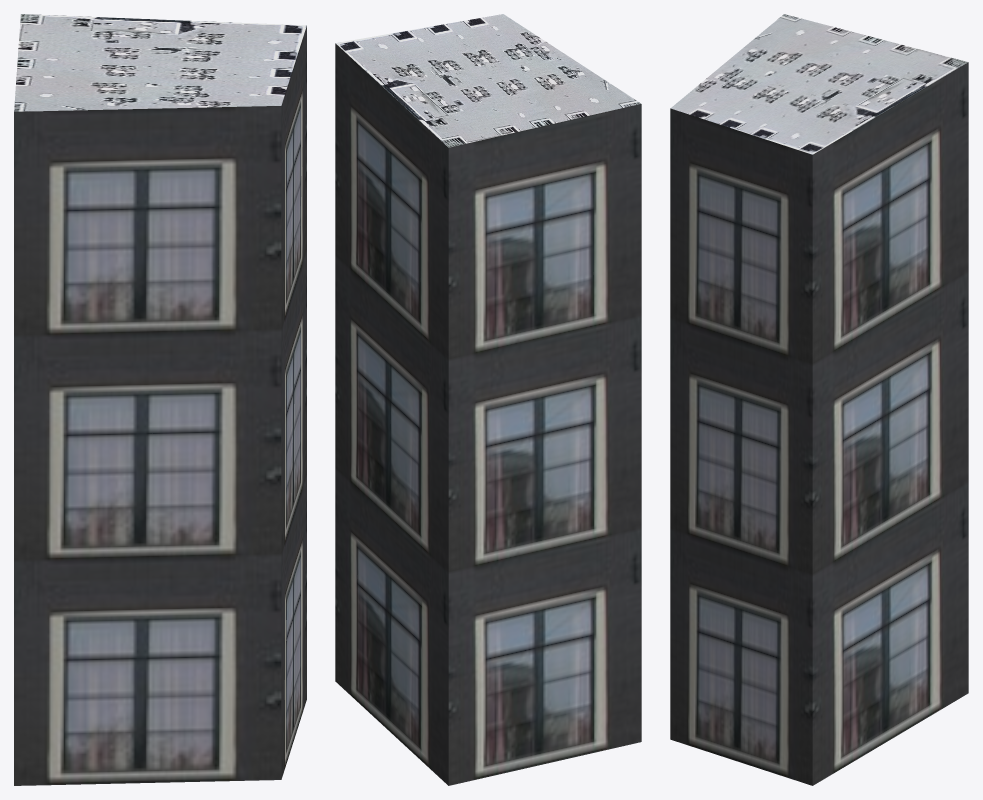
Rendered from ResTex__1068.fbx.
3 renders of one model, left to right at view 1: azimuth 30°, elevation 25°; view 2: azimuth 150°, elevation 25°; view 3: azimuth 270°, elevation 25°, orthographic. The views are drawn at different scales.
Visible parts, largest first — view 1: CityEngineMaterial_22_m, CityEngineMaterial_4_m; view 2: CityEngineMaterial_22_m, CityEngineMaterial_4_m; view 3: CityEngineMaterial_22_m, CityEngineMaterial_4_m.
Part boxes in pixels (bbox=[...]): CityEngineMaterial_22_m: bbox=[14, 26, 306, 785]; CityEngineMaterial_4_m: bbox=[14, 14, 306, 111]; CityEngineMaterial_22_m: bbox=[335, 43, 641, 785]; CityEngineMaterial_4_m: bbox=[335, 14, 641, 147]; CityEngineMaterial_22_m: bbox=[670, 62, 968, 785]; CityEngineMaterial_4_m: bbox=[670, 14, 968, 154].
Size of the model in its own units: 4.31 by 9 by 3.85.
2 materials, 2 textured.
